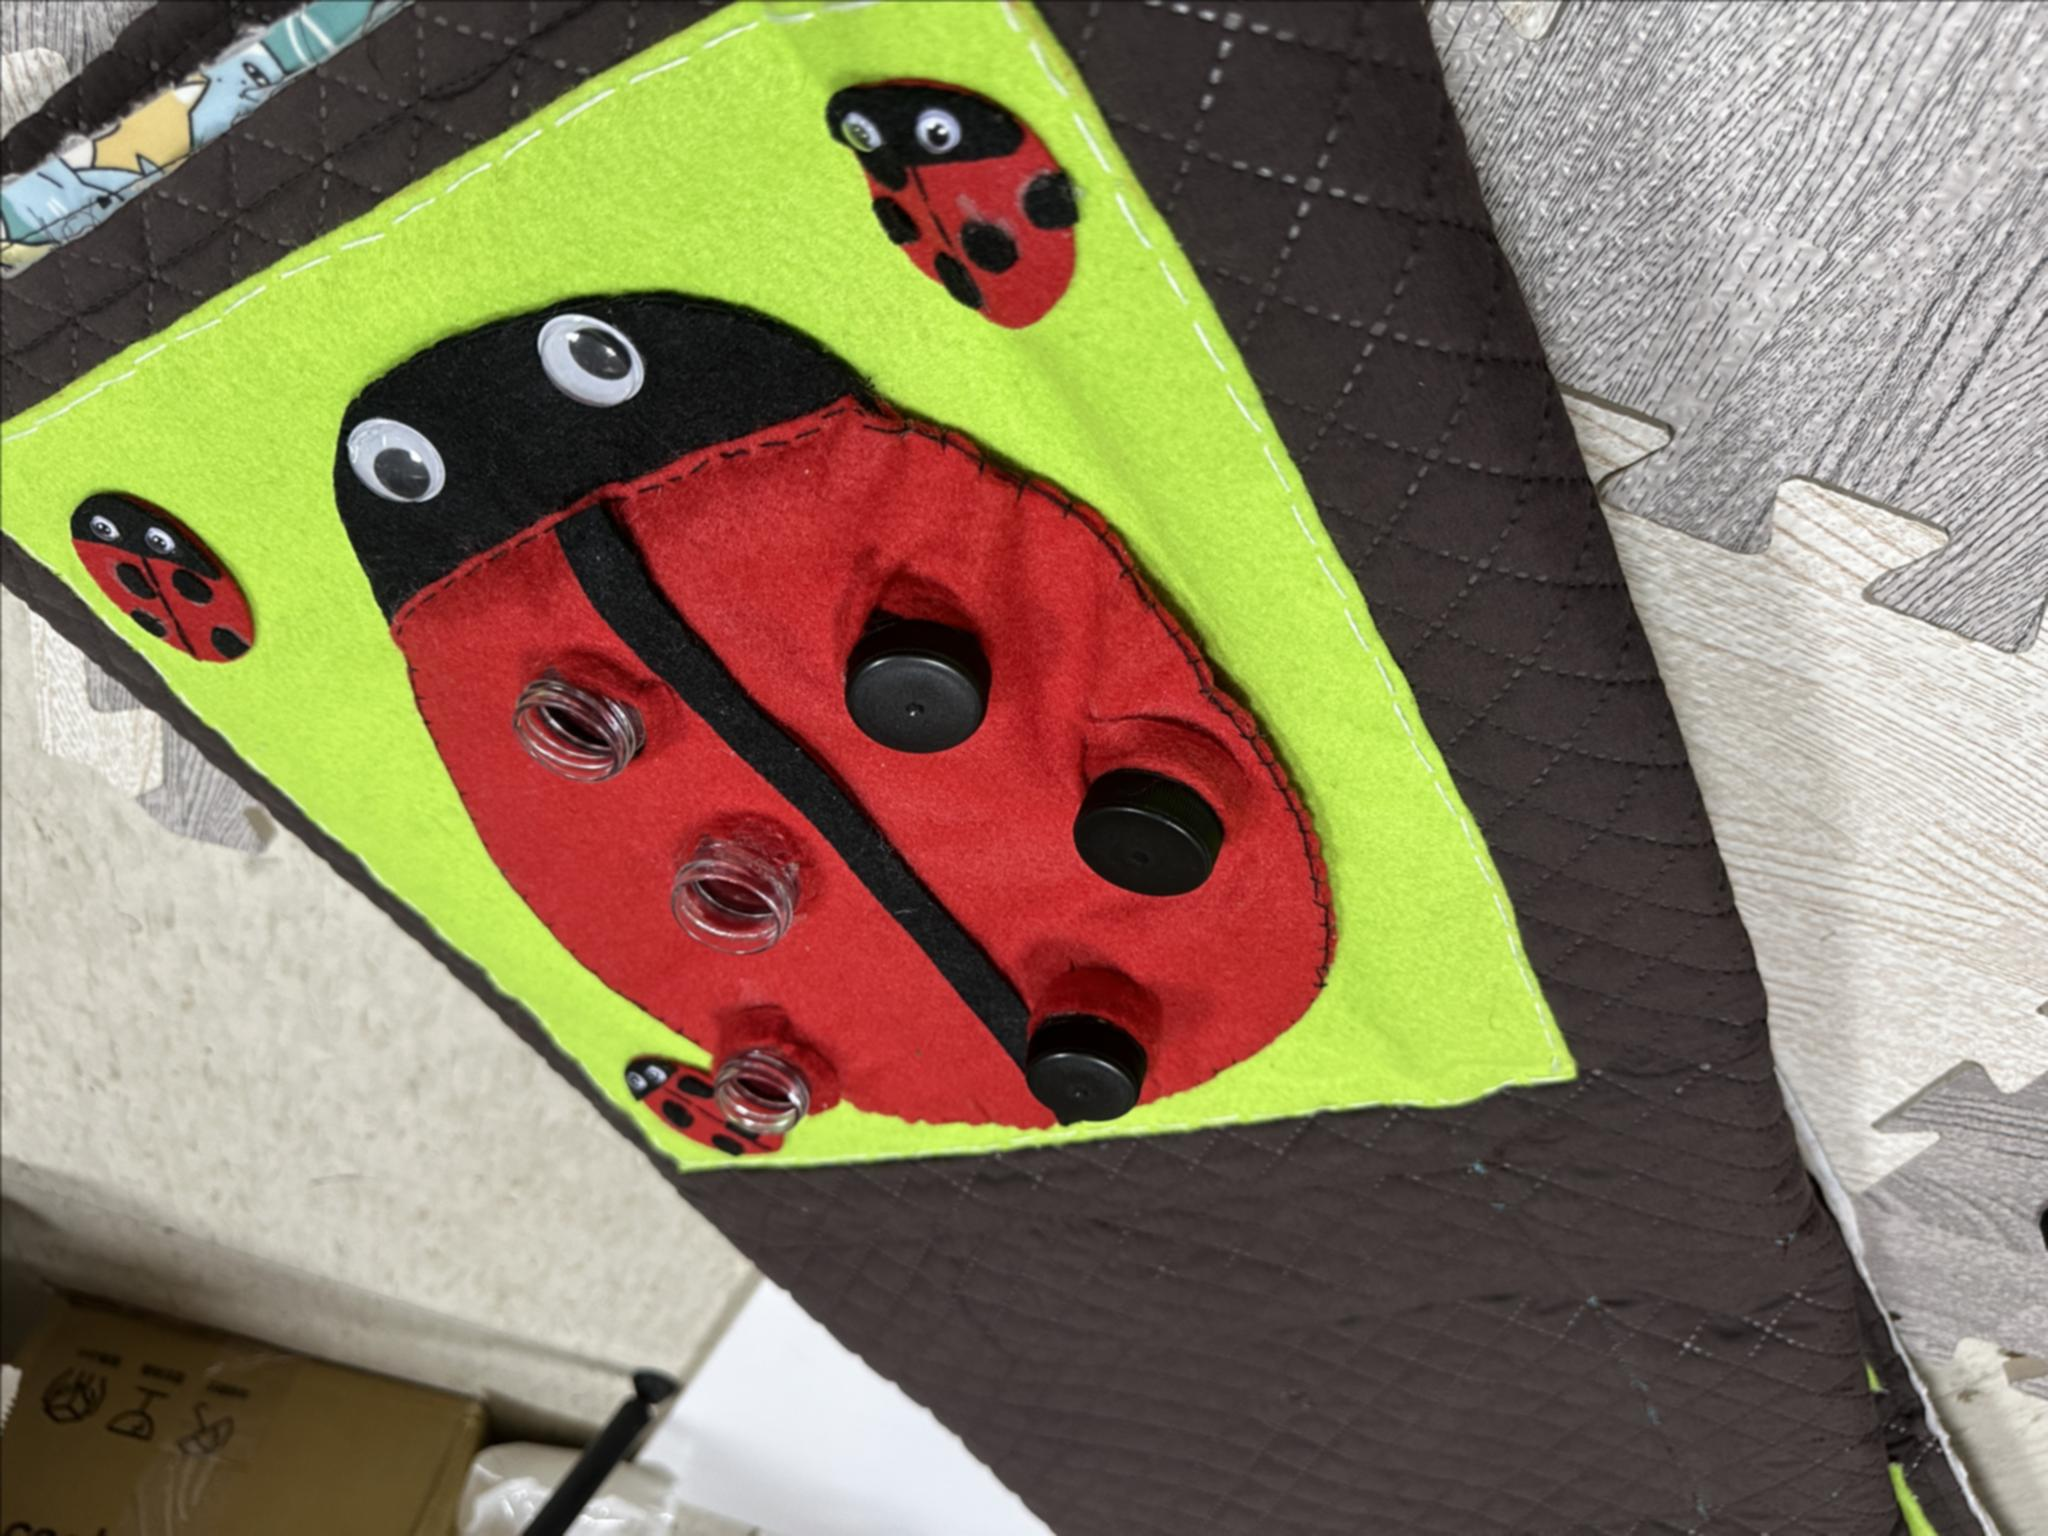cap_ok: (1050, 707, 1250, 913), (1005, 952, 1184, 1152), (821, 592, 1021, 755)
